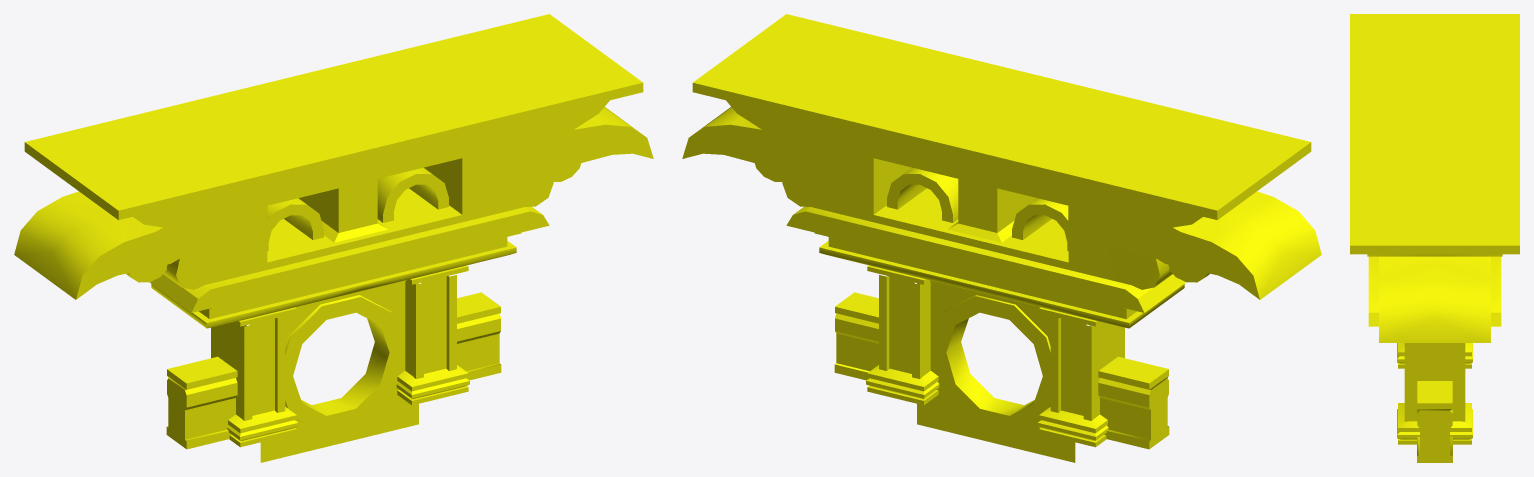
File: 2st_gate_002.glb
The picture shows the model from 3 angles, left to right: view 1: azimuth 30°, elevation 25°; view 2: azimuth 150°, elevation 25°; view 3: azimuth 270°, elevation 25°; orthographic projection. The views are drawn at different scales.
Visible parts, largest first — view 1: 4st_gate_002; view 2: 4st_gate_002; view 3: 4st_gate_002.
Boxes of the visible parts, x1,y1,x2,y2 form: 4st_gate_002: (14,14,653,462); 4st_gate_002: (682,14,1321,462); 4st_gate_002: (1350,14,1519,462).
Size of the model in its own units: 23.11 by 12.5 by 6.5.
Materials: 4 (4 with a texture image).
